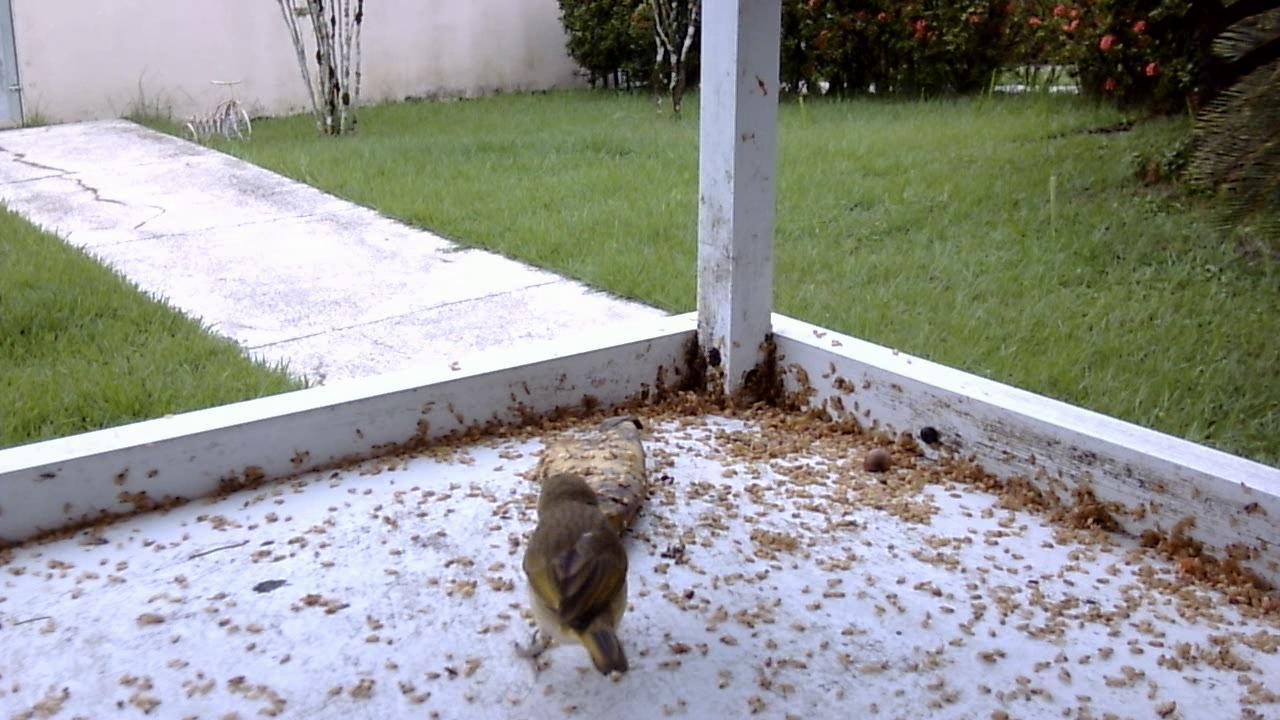canario_do_amazonas: (510, 439, 652, 690)
